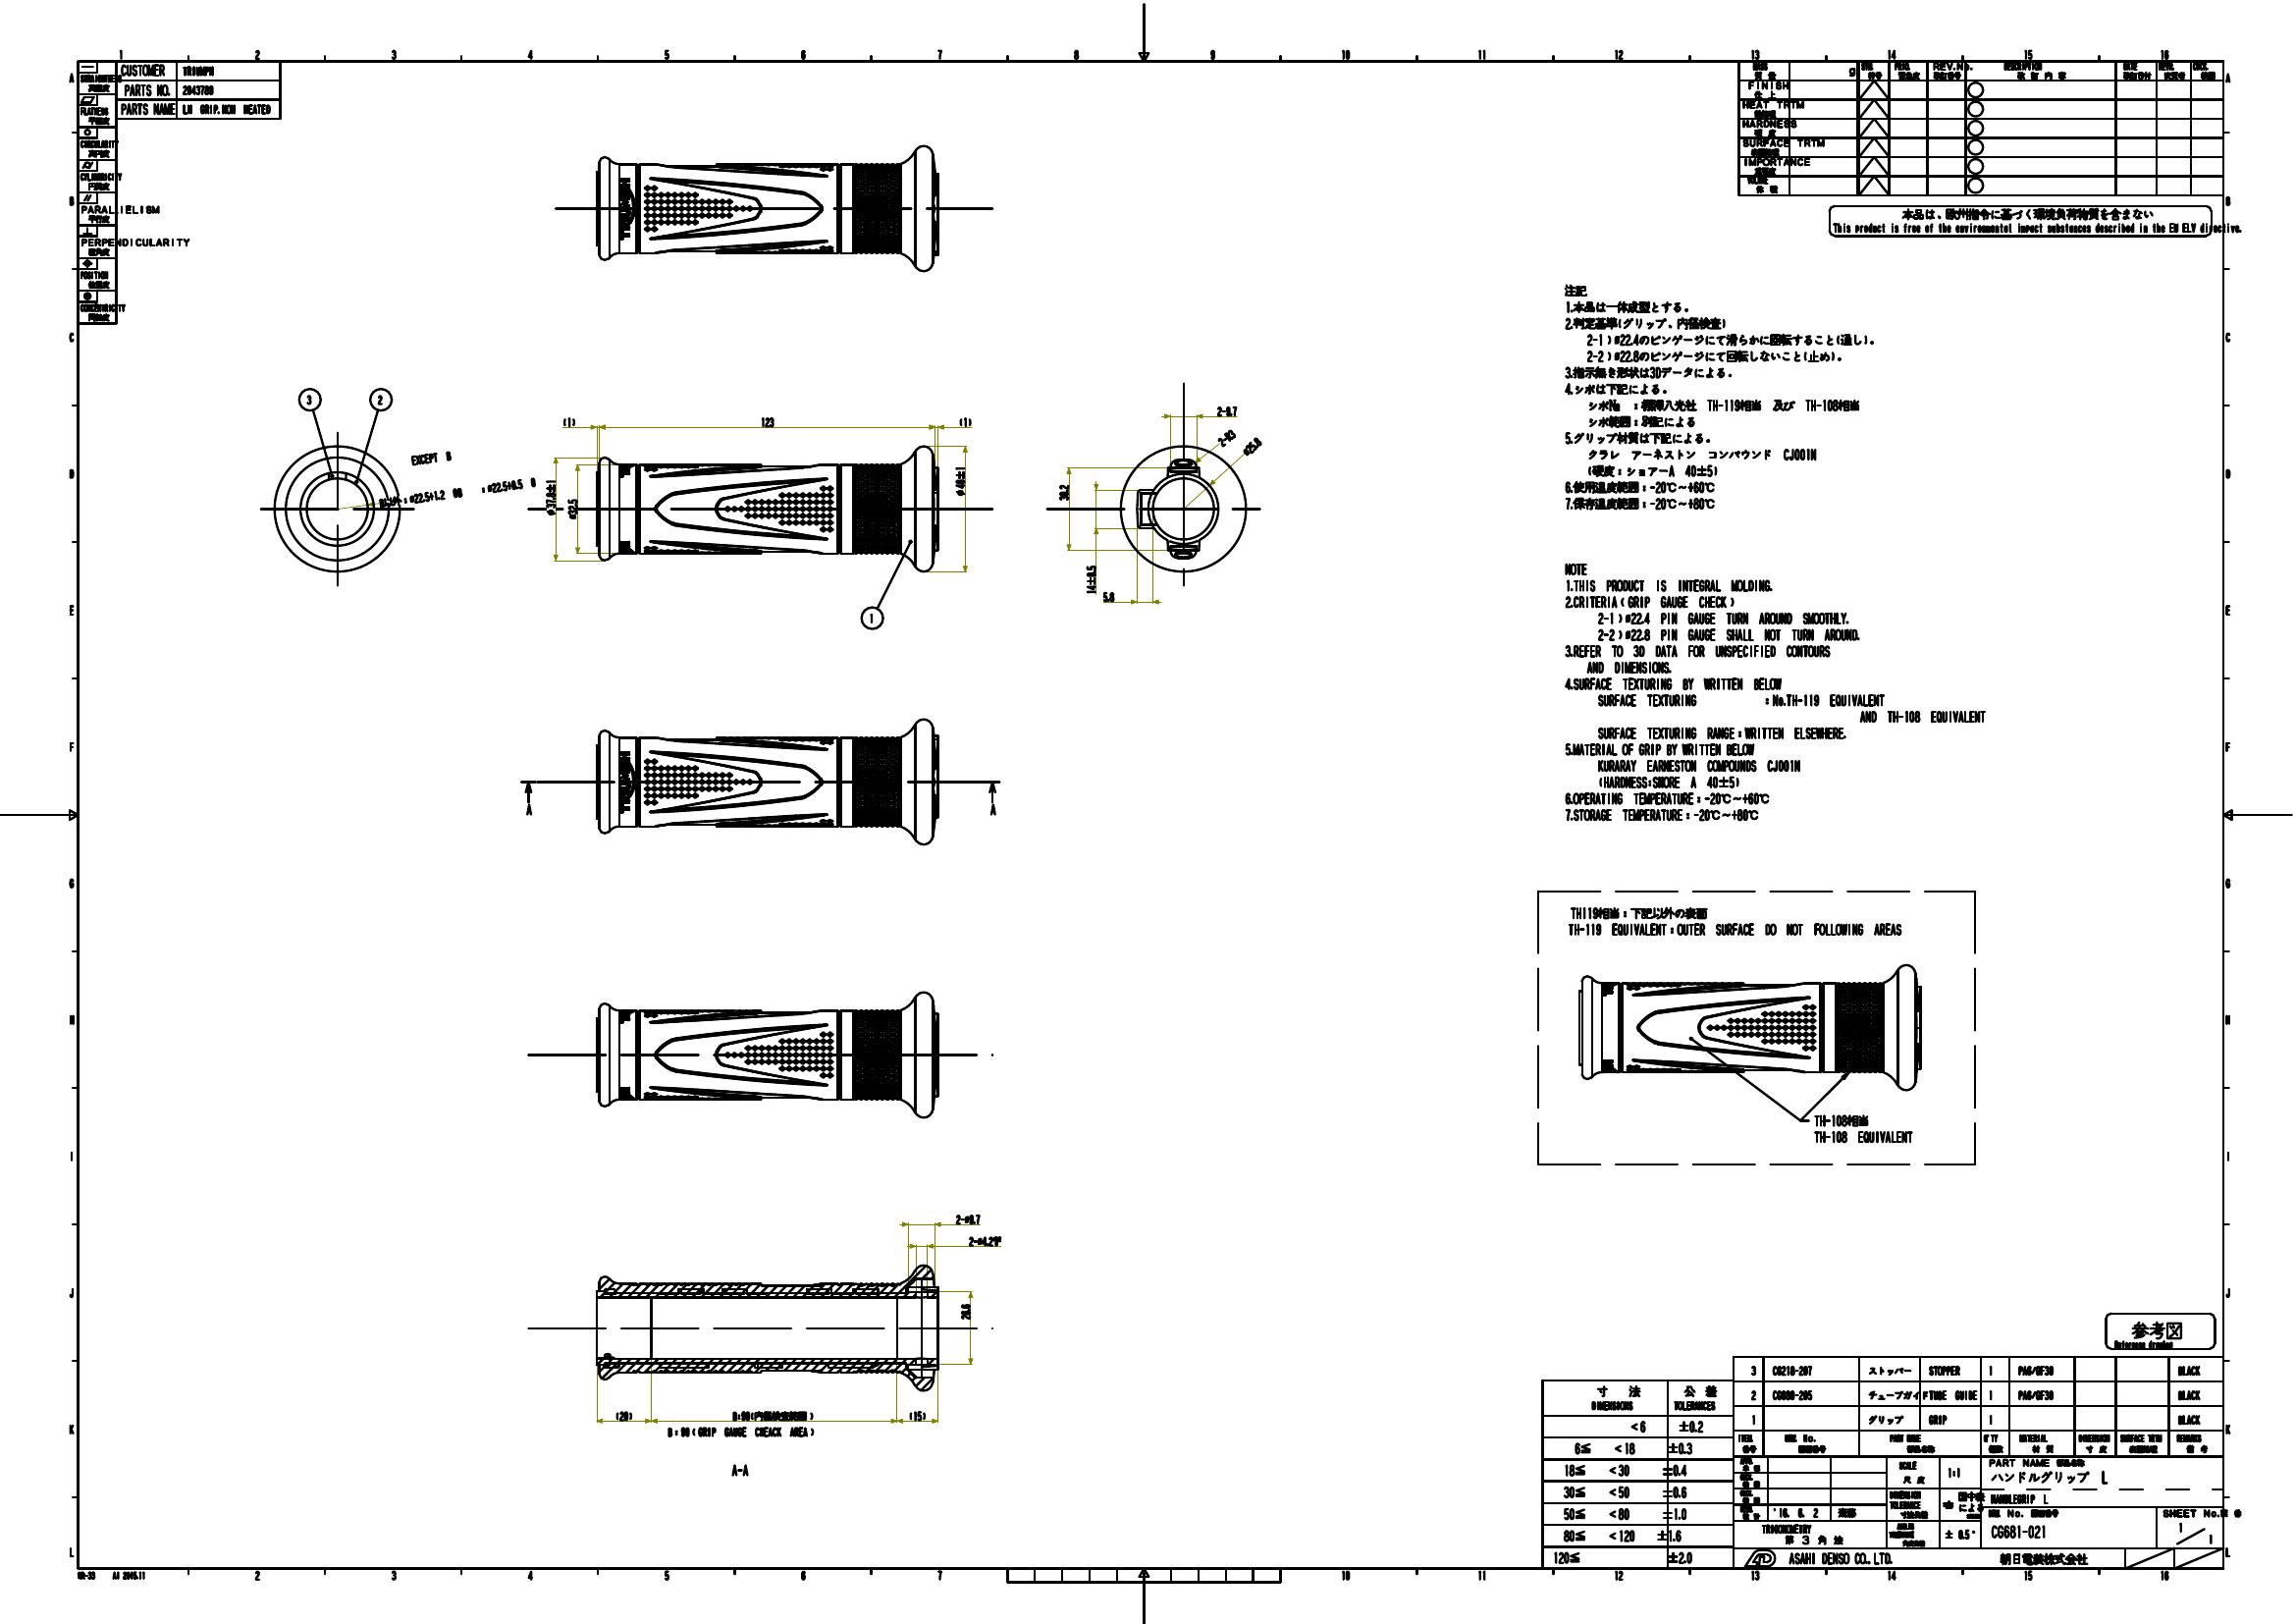anntotation_text: (1562, 559, 1989, 823), (1563, 283, 1876, 511), (1827, 204, 2243, 237), (1567, 919, 1903, 937), (2103, 1311, 2217, 1352), (1569, 905, 1708, 921), (666, 1425, 815, 1438), (1813, 1128, 1913, 1146), (729, 1408, 813, 1420), (1813, 1113, 1869, 1128), (859, 605, 884, 631), (297, 387, 321, 411), (369, 387, 393, 411), (411, 452, 450, 464), (729, 1462, 748, 1476), (523, 801, 532, 817), (987, 803, 996, 817)
dimension_text: (378, 487, 538, 499), (543, 478, 557, 517), (966, 1234, 1003, 1246), (1084, 562, 1096, 596), (954, 466, 966, 496), (954, 1213, 980, 1225), (566, 496, 578, 522), (1214, 404, 1238, 417), (1240, 439, 1263, 452), (957, 1302, 971, 1322), (1216, 431, 1237, 443), (1058, 482, 1070, 501), (957, 415, 973, 429), (759, 415, 775, 429), (560, 415, 576, 429), (908, 1410, 926, 1422), (1101, 589, 1116, 603), (615, 1410, 632, 1420)
object: (1576, 963, 1922, 1093), (594, 1262, 940, 1392), (594, 990, 940, 1120), (594, 717, 940, 845), (594, 144, 940, 272), (594, 445, 940, 571), (1119, 445, 1247, 573), (272, 445, 401, 573)
title_block: (1539, 1353, 2226, 1571), (1736, 60, 2224, 197), (77, 60, 118, 325), (112, 60, 283, 120)
